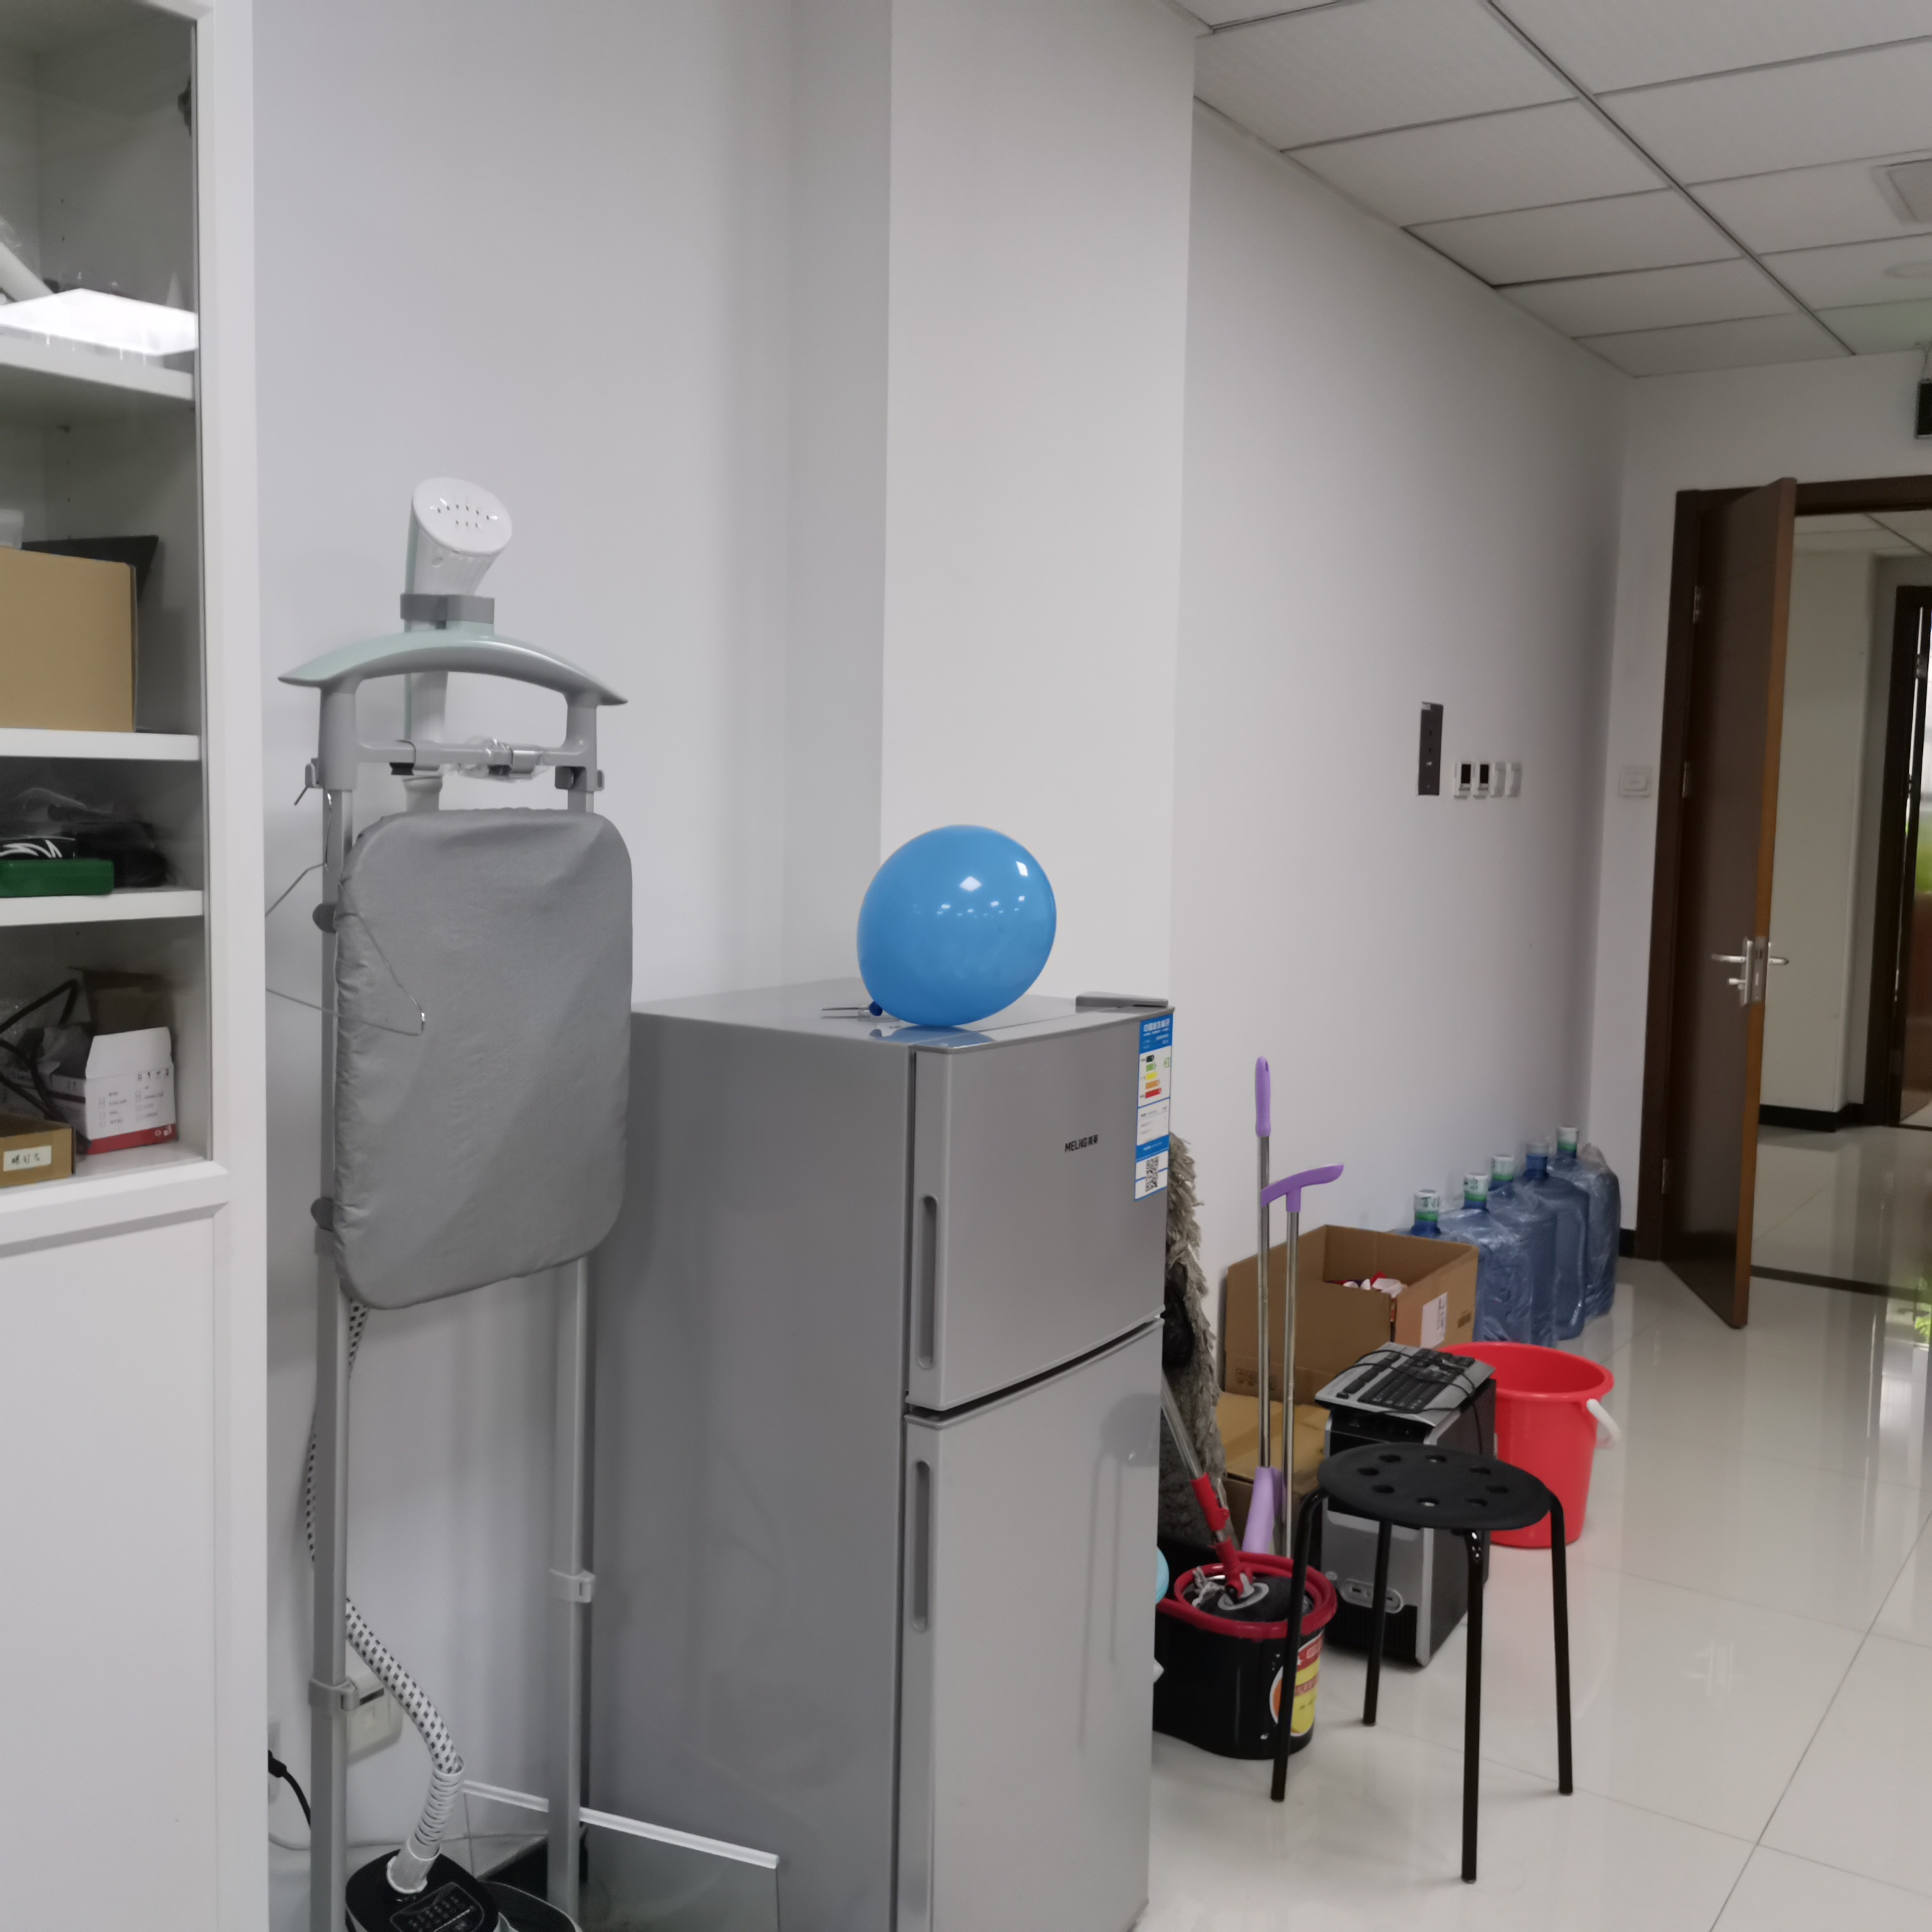balloon: (858, 824, 1060, 1021)
